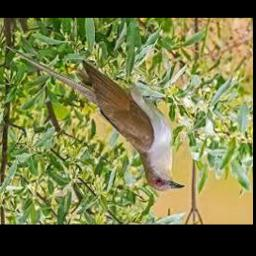Cuckoo: (7, 46, 186, 191)
